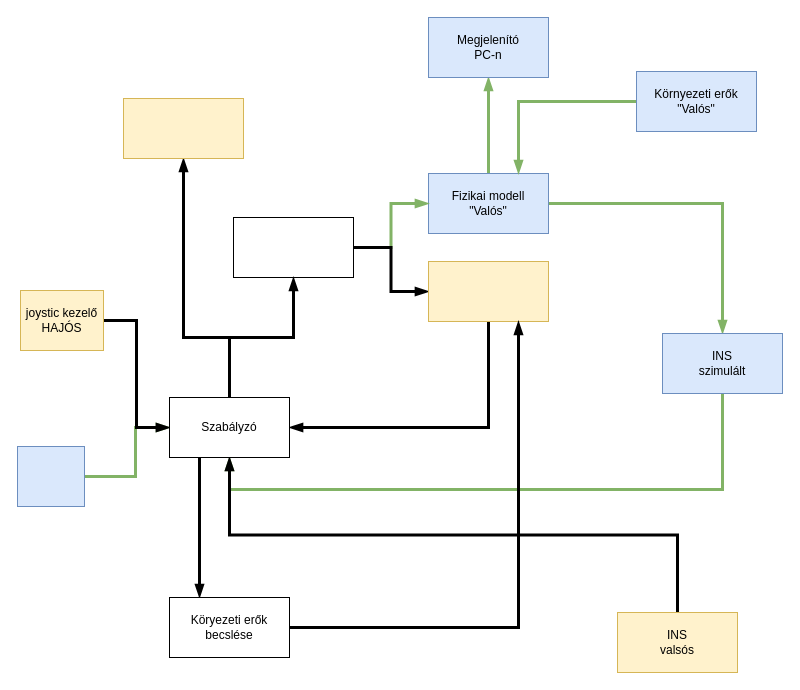
The diagram is 800 pixels wide and 690 high, and some of its shapes have lost their labels. Each missing label, with the centre of its shape:
Erő modul: pixel 293 247
Fizikai modell szabályzóban: pixel 488 291
Hajó aktuátor kezelés: pixel 183 128
joystic kezelő PC: pixel 50 476
